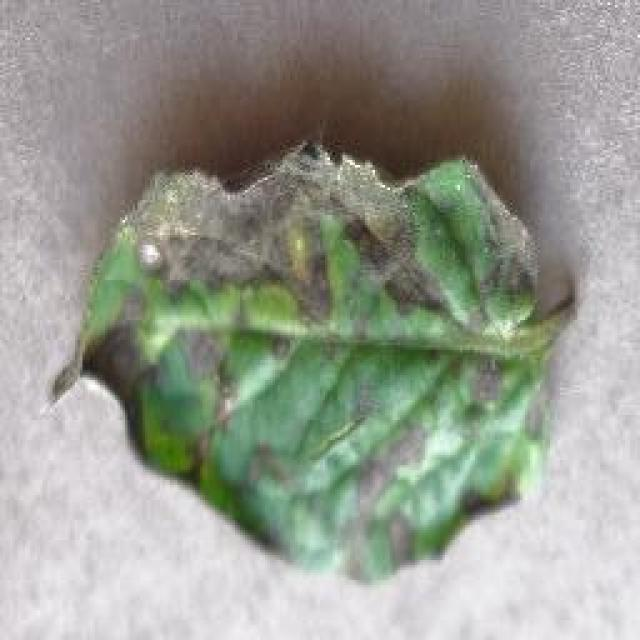Tomato Early blight leaf: (65, 114, 563, 556)
